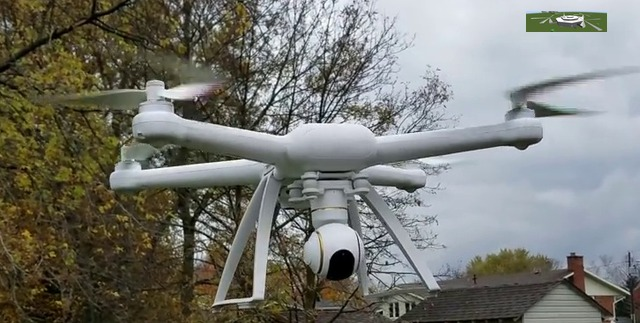drone: (42, 69, 634, 306), (526, 11, 607, 32)
